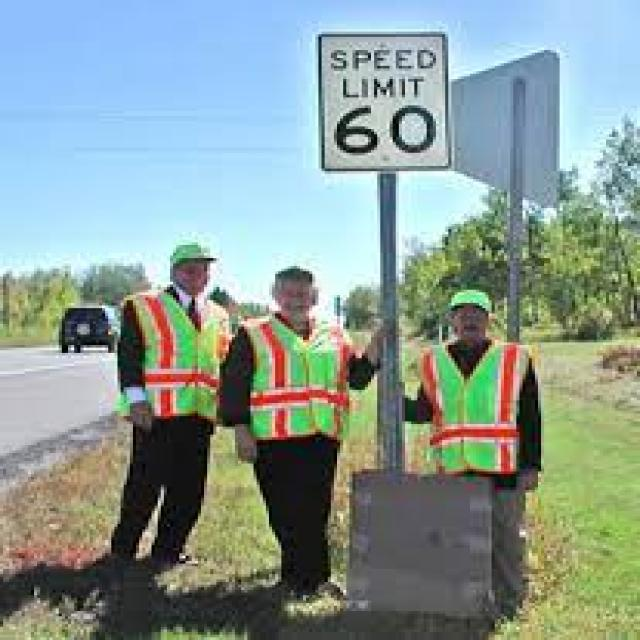speedLimit60: (312, 26, 454, 182)
